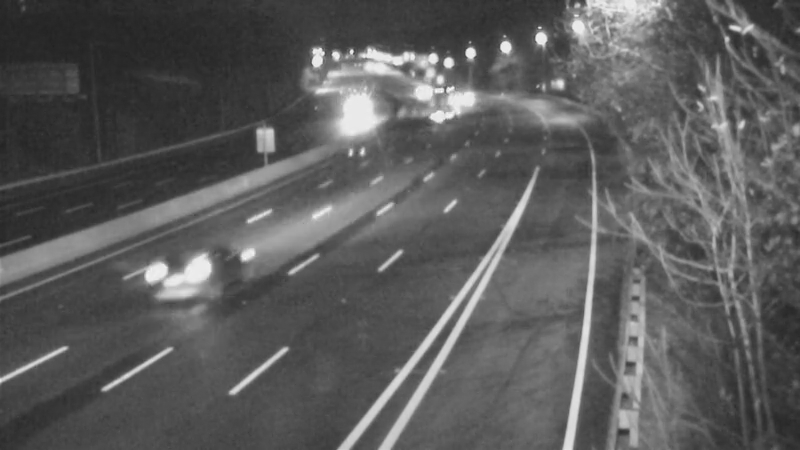vehicle: (135, 238, 215, 318), (394, 68, 444, 118), (446, 72, 496, 122), (418, 68, 468, 118), (325, 95, 375, 145)
